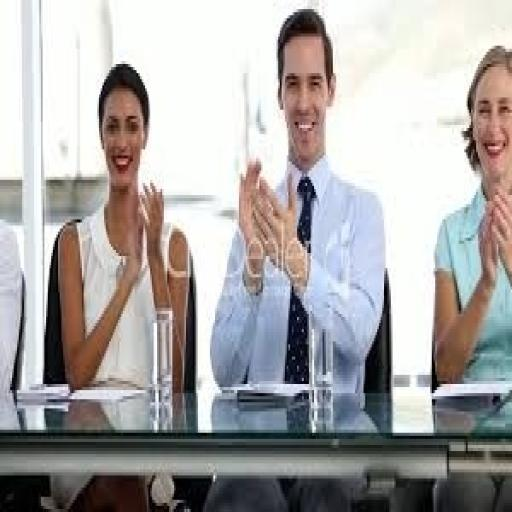clapping: (208, 6, 388, 396), (43, 58, 196, 396), (430, 43, 510, 390)
